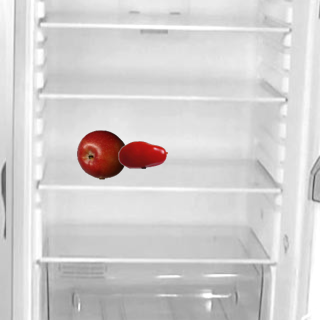Apple Braeburn: (76, 129, 126, 179)
Tomato 2: (117, 129, 167, 179)
